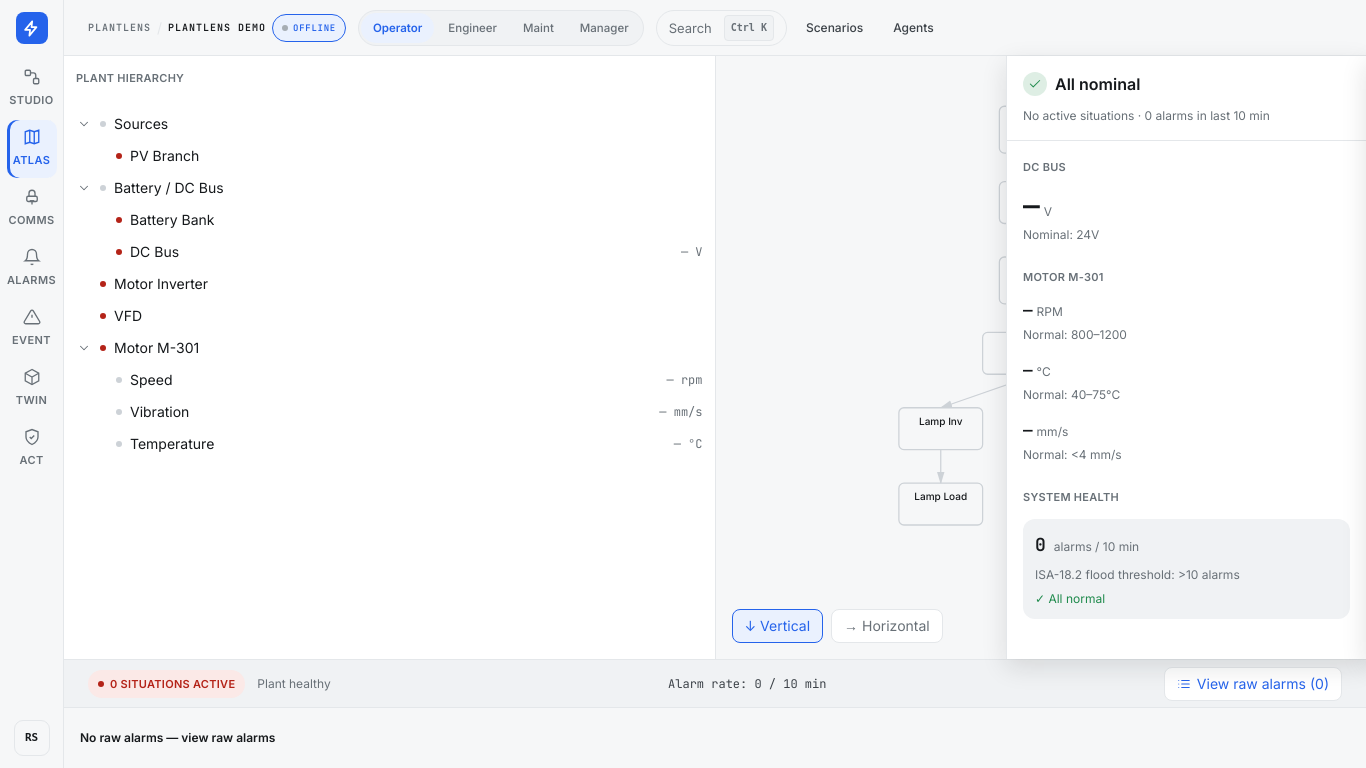
Scenario: RuntimeHMI › renders HMI root cause panel when runtime HMI resolves
Click the button "EVENT".
click(32, 329)  # box left=6, top=300, right=56, bottom=358
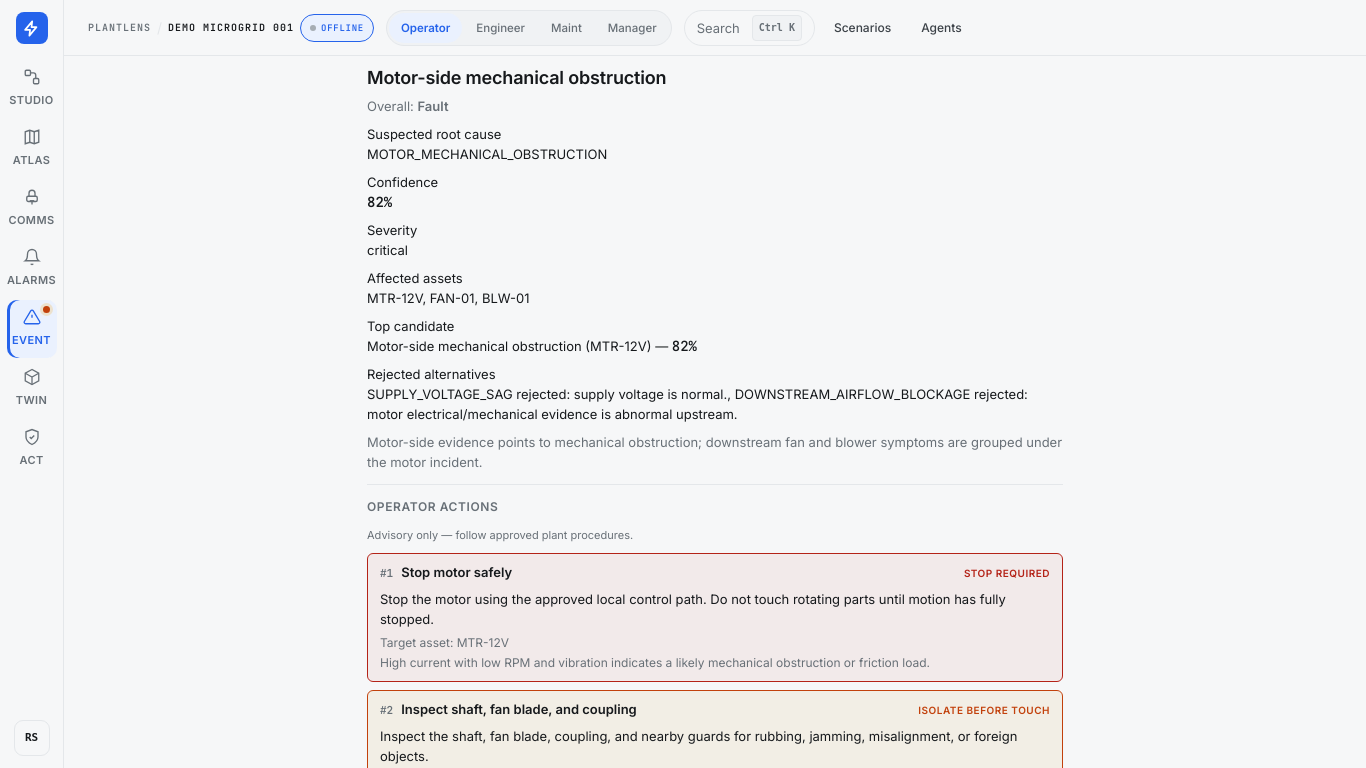
Check: the heading "Motor-side mechanical obstruction" is shown, box left=367, top=67, right=666, bottom=88
Check: the text "MOTOR_MECHANICAL_OBSTRUCTION" is shown, box left=367, top=146, right=607, bottom=162
